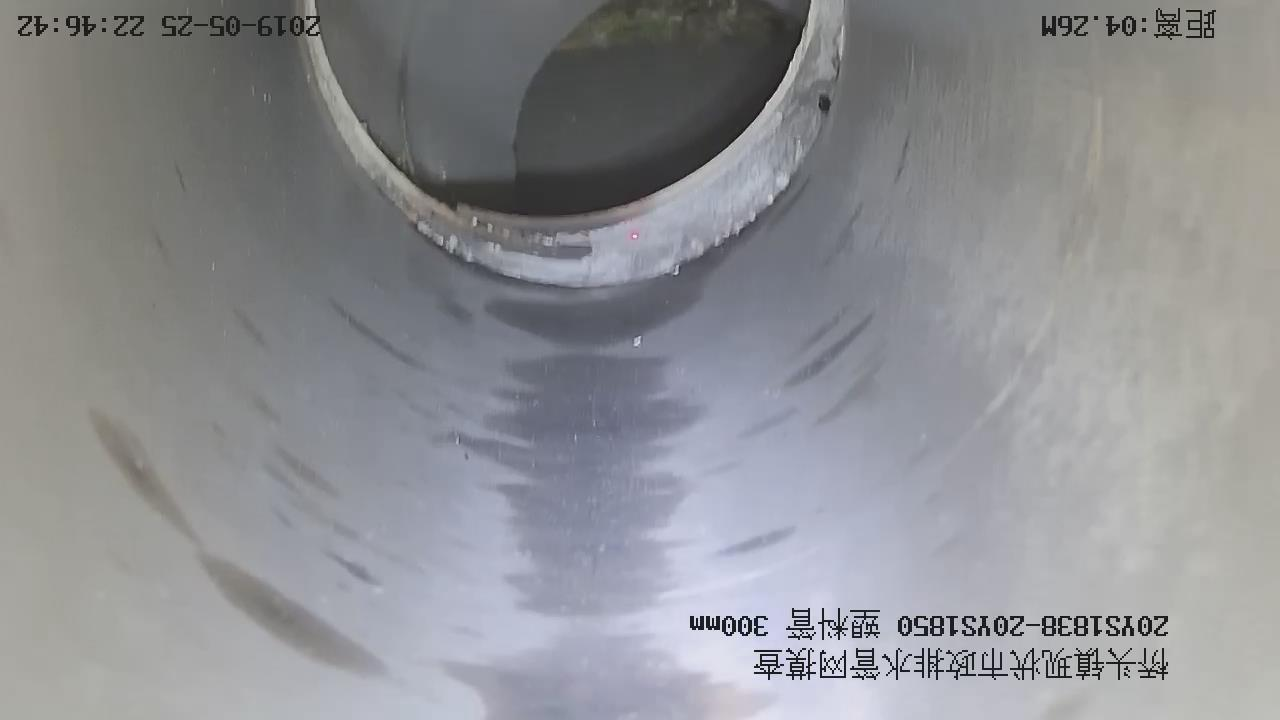CKTJ: (304, 1, 844, 288)
